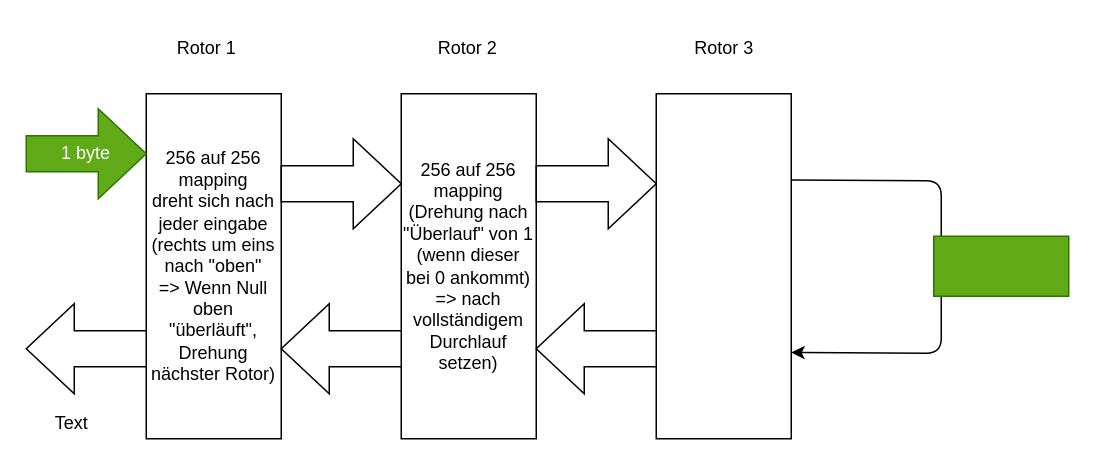
This 1095x471 diagram has some shape labels left out. Here are the shapes that lost their labels. From the top down, the centre of each, then its label:
(723,265): 256 auf 256 mapping (Drehung nach "Überlauf" von 2 (wenn dieser bei 0 ankommt))
(1000,265): Bitweises Komplement
